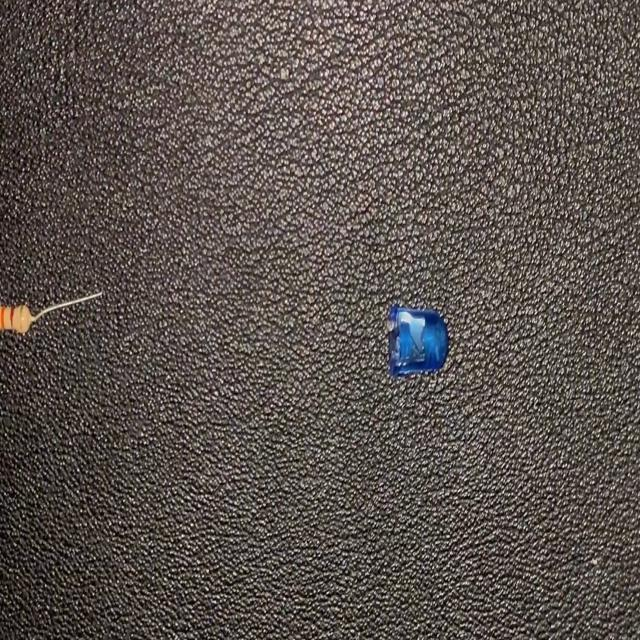missing-leg: (383, 298, 451, 385)
resistor: (0, 289, 105, 336)
